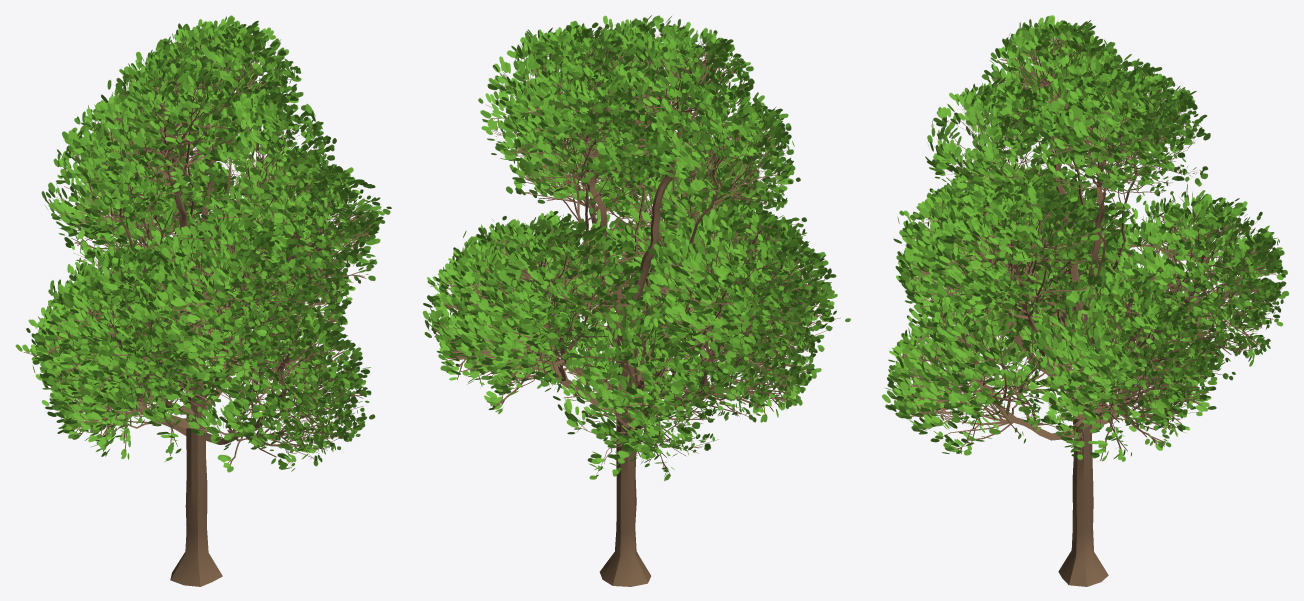
Rendered from tree.glb.
3 views of the same model, side by side, from view 1: azimuth 30°, elevation 25°; view 2: azimuth 150°, elevation 25°; view 3: azimuth 270°, elevation 25° (orthographic). The views are drawn at different scales.
Parts seen in each view (by area): view 1: oak 01, oak 01.001; view 2: oak 01, oak 01.001; view 3: oak 01, oak 01.001.
Boxes of the visible parts, x1=… form: oak 01: x1=15, y1=15, x2=391, y2=472; oak 01.001: x1=23, y1=32, x2=382, y2=586; oak 01: x1=422, y1=15, x2=850, y2=481; oak 01.001: x1=429, y1=30, x2=840, y2=586; oak 01: x1=882, y1=15, x2=1288, y2=461; oak 01.001: x1=890, y1=32, x2=1281, y2=586.
Size of the model in its own units: 0.3678 by 0.564 by 0.389.
2 materials, 1 textured.
